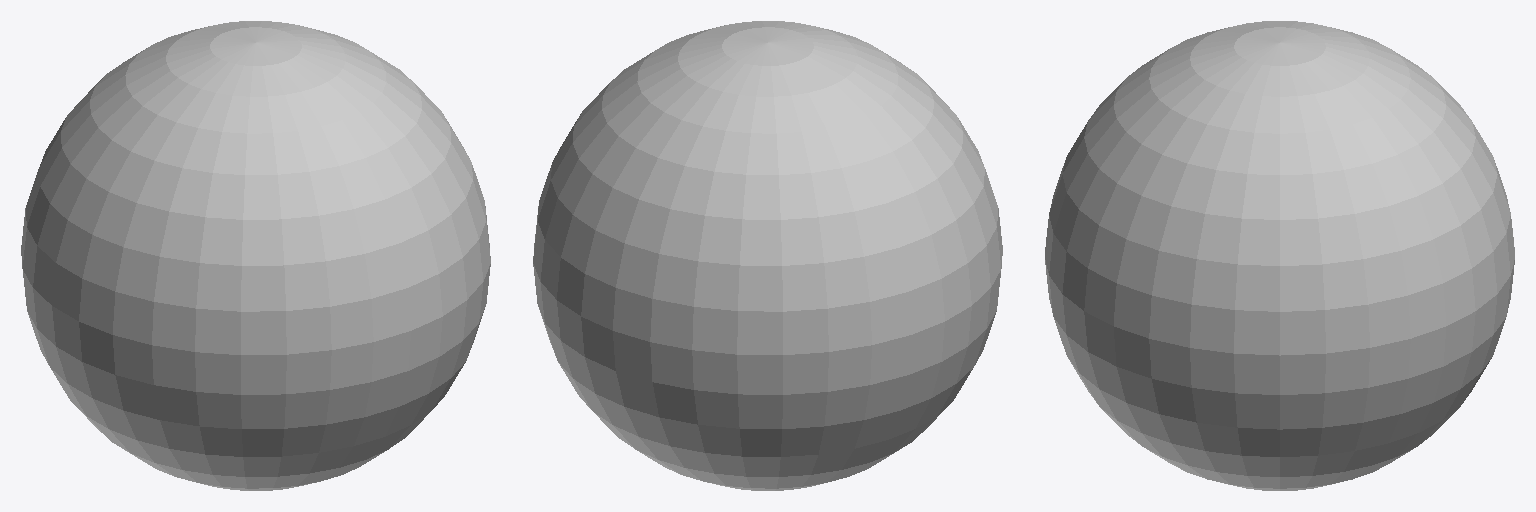
Rendered from gem_type_1.obj.
3 renders of one model, left to right at view 1: azimuth 30°, elevation 25°; view 2: azimuth 150°, elevation 25°; view 3: azimuth 270°, elevation 25°, orthographic.
Parts seen in each view (by area): view 1: gem_type_1; view 2: gem_type_1; view 3: gem_type_1.
Part boxes in pixels (left/top/right/bottom): gem_type_1: left=21, top=21, right=490, bottom=490; gem_type_1: left=533, top=21, right=1002, bottom=490; gem_type_1: left=1045, top=21, right=1514, bottom=490.
Size of the model in its own units: 0.9 by 0.9 by 0.9.